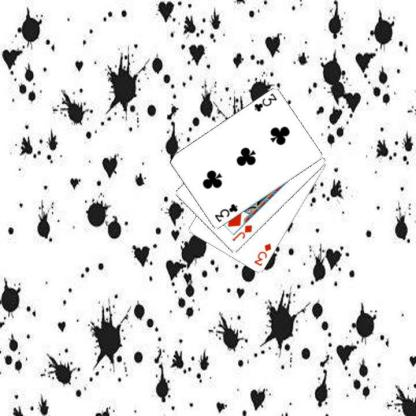3C: (212, 201, 239, 224), (251, 91, 278, 113)
3D: (251, 241, 273, 267)
JD: (229, 222, 254, 242)
